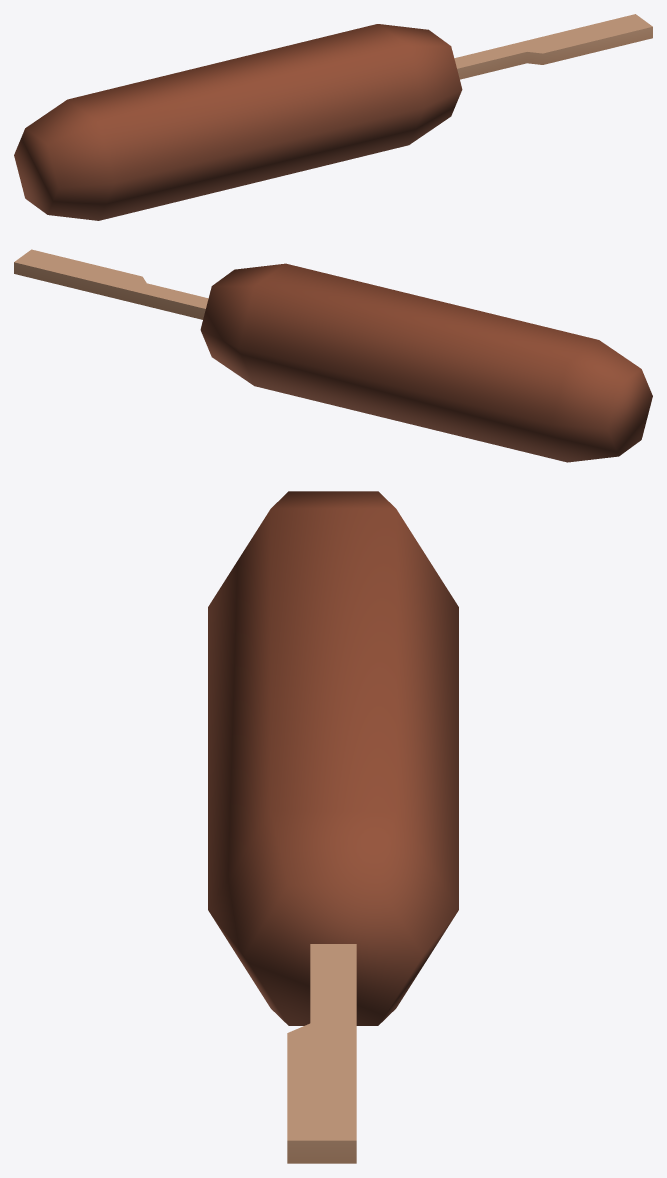
The model's file is corn-dog.glb.
3 renders of one model, top to bottom at view 1: azimuth 30°, elevation 25°; view 2: azimuth 150°, elevation 25°; view 3: azimuth 270°, elevation 25°, orthographic. The views are drawn at different scales.
Parts seen in each view (by area): view 1: dog, corn-dog; view 2: dog, corn-dog; view 3: dog, corn-dog.
Boxes of the visible parts, x1,y1,x2,y2 form: dog: [14, 24, 462, 220]; corn-dog: [454, 14, 652, 79]; dog: [200, 263, 652, 462]; corn-dog: [14, 249, 208, 319]; dog: [208, 491, 458, 1025]; corn-dog: [287, 944, 356, 1163].
Size of the model in its own units: 0.6044 by 0.094 by 0.1085.
